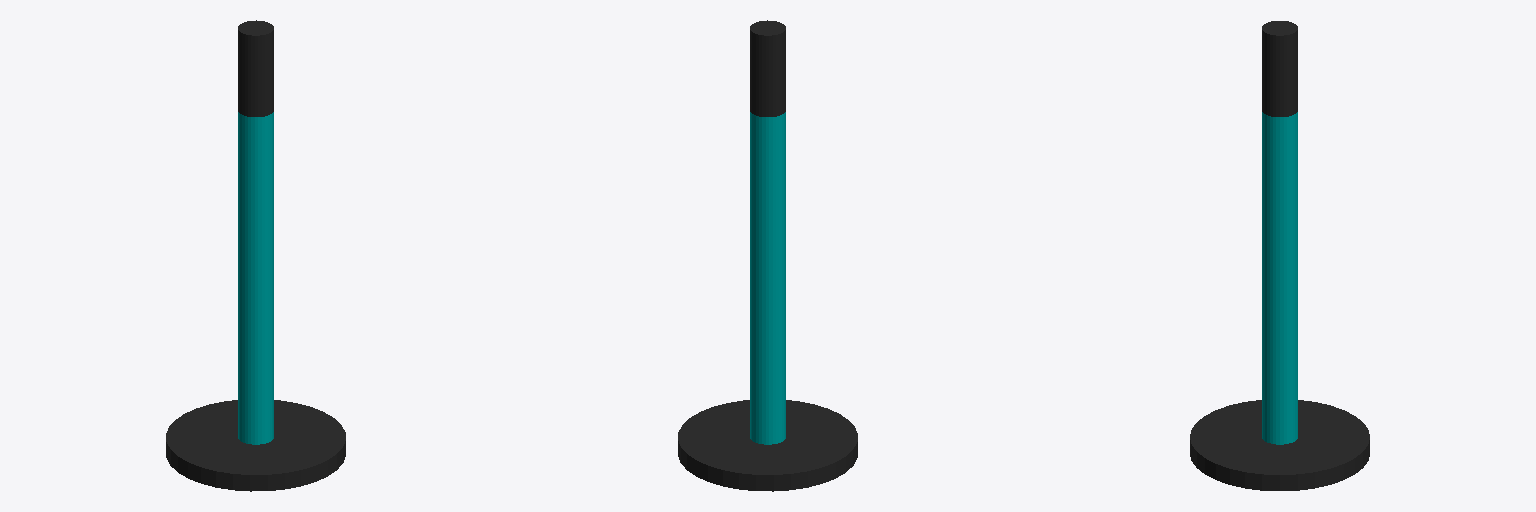
robot.urdf — arm:
<?xml version="1.0" ?>
<!-- =================================================================================== -->
<!-- |    This document was autogenerated by xacro from arm.xacro                      | -->
<!-- |    EDITING THIS FILE BY HAND IS NOT RECOMMENDED                                 | -->
<!-- =================================================================================== -->
<robot name="arm">
  <material name="dark_gray">
    <color rgba="0.2 0.2 0.2 1.0"/>
  </material>
  <material name="blue">
    <color rgba="0.0 0.7 0.7 1.0"/>
  </material>
  <link name="base_link">
    <visual>
      <geometry>
        <cylinder length="0.2" radius="0.5"/>
      </geometry>
      <material name="dark_gray"/>
    </visual>
  </link>
  <link name="bottom_arm">
    <visual>
      <geometry>
        <cylinder length="2.0" radius="0.2"/>
      </geometry>
      <material name="blue"/>
      <origin xyz="0 0 1.0"/>
    </visual>
  </link>
  <link name="bottom_rotator">
    <visual>
      <geometry>
        <cylinder length="0.2" radius="1.0"/>
      </geometry>
      <material name="dark_gray"/>
    </visual>
  </link>
  <link name="top_arm">
    <visual>
      <geometry>
        <cylinder length="2.0" radius="0.2"/>
      </geometry>
      <material name="blue"/>
      <origin xyz="0 0 1.0"/>
    </visual>
  </link>
  <link name="wrist">
    <visual>
      <geometry>
        <cylinder length="1.0" radius="0.2"/>
      </geometry>
      <material name="dark_gray"/>
      <origin xyz="0 0 0.5"/>
    </visual>
  </link>
  <link name="gripper_left">
    <visual>
      <origin rpy="0.0 -1.570796 0" xyz="0 0 0"/>
      <geometry>
        <mesh filename="package://urdf_tutorial/meshes/l_finger.dae" scale="4 4 4"/>
      </geometry>
    </visual>
  </link>
  <link name="gripper_right">
    <visual>
      <origin rpy="-3.14159 -1.570796 0" xyz="0 0 0"/>
      <geometry>
        <mesh filename="package://urdf_tutorial/meshes/l_finger.dae" scale="4 4 4"/>
      </geometry>
    </visual>
  </link>
  <joint name="base_to_bottom_rotator" type="revolute">
    <axis xyz="0.0 0.0 0.2"/>
    <limit effort="1000.0" lower="-2.0" upper="2.0" velocity="0.5"/>
    <parent link="base_link"/>
    <child link="bottom_rotator"/>
    <origin xyz="0 0 0.2"/>
  </joint>
  <joint name="bottom_rotator_to_bottom_arm" type="revolute">
    <axis xyz="-1.0 0.0 0.0"/>
    <limit effort="1000.0" lower="-2.0" upper="2.0" velocity="0.5"/>
    <parent link="bottom_rotator"/>
    <child link="bottom_arm"/>
    <origin xyz="0 0 0.1"/>
  </joint>
  <joint name="bottom_arm_to_top_arm" type="revolute">
    <axis xyz="1.0 0.0 0.0"/>
    <limit effort="1000.0" lower="-2.0" upper="2.0" velocity="0.5"/>
    <parent link="bottom_arm"/>
    <child link="top_arm"/>
    <origin xyz="0 0 2.0"/>
  </joint>
  <joint name="top_arm_to_wrist" type="revolute">
    <axis xyz="1.0 0.0 0.0"/>
    <limit effort="1000.0" lower="-2.0" upper="2.0" velocity="0.5"/>
    <parent link="top_arm"/>
    <child link="wrist"/>
    <origin xyz="0 0 2.0"/>
  </joint>
  <joint name="wrist_to_gripper_left" type="revolute">
    <axis xyz="1.0 0.0 0.0"/>
    <limit effort="1000.0" lower="-2.0" upper="2.0" velocity="0.5"/>
    <parent link="wrist"/>
    <child link="gripper_left"/>
    <origin xyz="0 0 1.0"/>
  </joint>
  <joint name="wrist_to_gripper_right" type="revolute">
    <axis xyz="1.0 0.0 0.0"/>
    <limit effort="1000.0" lower="-2.0" upper="2.0" velocity="0.5"/>
    <parent link="wrist"/>
    <child link="gripper_right"/>
    <origin xyz="0 0 1.0"/>
  </joint>
</robot>

--- Render facts (derived) ---
3 views of the same robot in one strip: view 1: azimuth 30°, elevation 25°; view 2: azimuth 150°, elevation 25°; view 3: azimuth 270°, elevation 25° (orthographic).
Model arm with 7 links and 6 joints (6 revolute), rooted at base_link, posed all joints at 0.
Links seen in each view (by area): view 1: bottom_rotator, top_arm, bottom_arm, wrist; view 2: bottom_rotator, top_arm, bottom_arm, wrist; view 3: bottom_rotator, bottom_arm, top_arm, wrist.
Link boxes in pixels (x1=…): bottom_rotator: x1=166, y1=400, x2=345, y2=491; top_arm: x1=238, y1=112, x2=273, y2=280; bottom_arm: x1=238, y1=275, x2=273, y2=444; wrist: x1=238, y1=20, x2=273, y2=116; bottom_rotator: x1=678, y1=400, x2=857, y2=491; top_arm: x1=750, y1=112, x2=785, y2=280; bottom_arm: x1=750, y1=275, x2=785, y2=444; wrist: x1=750, y1=20, x2=785, y2=116; bottom_rotator: x1=1190, y1=400, x2=1369, y2=490; bottom_arm: x1=1262, y1=275, x2=1297, y2=444; top_arm: x1=1262, y1=112, x2=1297, y2=280; wrist: x1=1262, y1=21, x2=1297, y2=116.
Size in the robot's own frame: 2 by 2 by 5.4 metres.
0 mesh visuals loaded from 1 distinct referenced files (none loaded); not drawn: 2 (reference not matched to a file when rendering).
